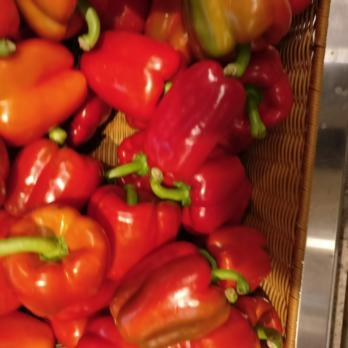Capsicum: (0, 0, 289, 348)
